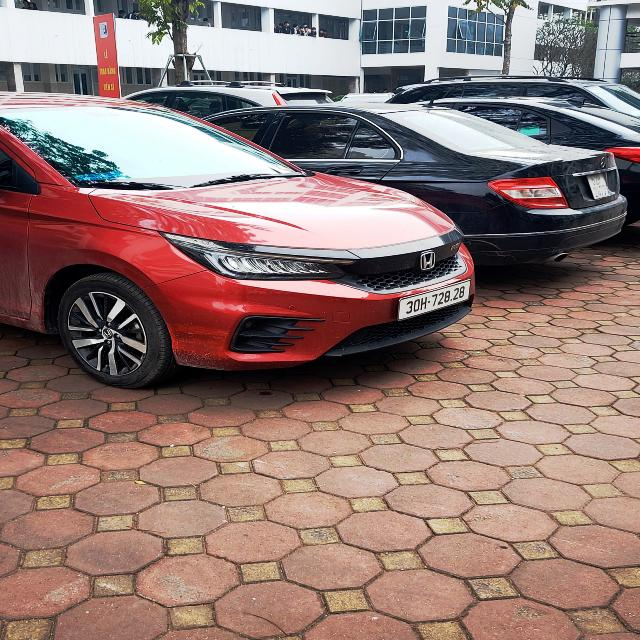license_plate: (399, 280, 472, 322), (587, 174, 613, 200)
